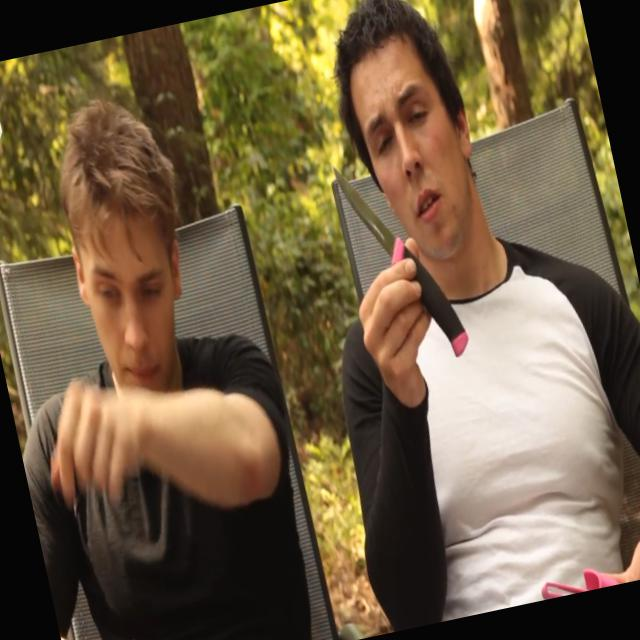knife: (323, 126, 480, 394)
